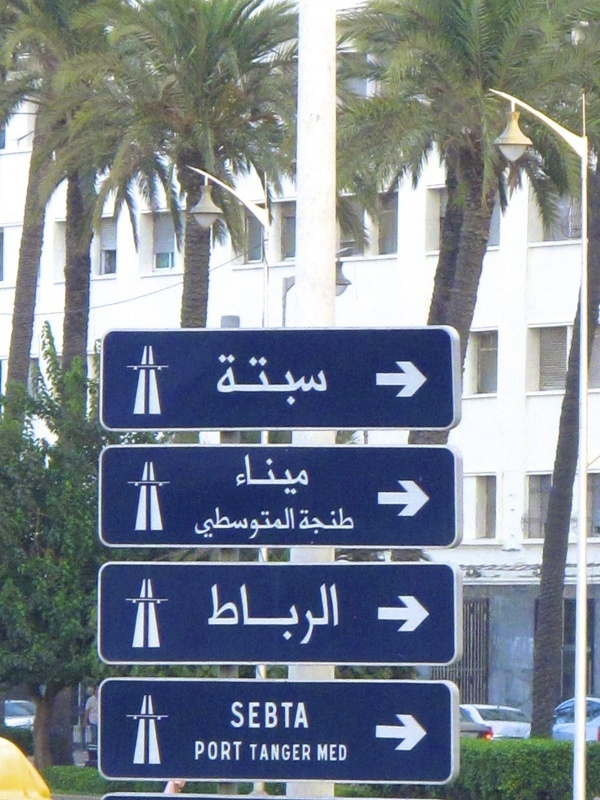text: (209, 580, 224, 646), (225, 580, 240, 646), (241, 580, 256, 646), (257, 580, 272, 646), (273, 580, 288, 646), (289, 580, 304, 646), (305, 580, 320, 646), (321, 580, 336, 646), (225, 354, 240, 408), (241, 354, 256, 408), (257, 354, 272, 408), (273, 354, 288, 408), (289, 354, 304, 408), (305, 354, 320, 408), (241, 454, 256, 496), (257, 454, 272, 496), (273, 454, 288, 496), (289, 454, 304, 496), (209, 506, 224, 540), (225, 506, 240, 540), (241, 506, 256, 540), (257, 506, 272, 540), (273, 506, 288, 540), (241, 700, 256, 730), (257, 700, 272, 730), (273, 700, 288, 730), (289, 700, 304, 730), (305, 507, 320, 536), (321, 507, 336, 536), (337, 507, 352, 536), (321, 354, 329, 408), (217, 354, 224, 408), (197, 506, 208, 540), (209, 741, 224, 762), (225, 741, 240, 762), (257, 743, 272, 762), (273, 743, 288, 762), (289, 743, 304, 762), (321, 743, 336, 762), (289, 506, 297, 540), (204, 580, 208, 646), (305, 454, 311, 496), (196, 741, 208, 762), (232, 700, 240, 730), (337, 743, 349, 762), (337, 580, 340, 646), (305, 700, 311, 730), (305, 743, 314, 762), (237, 454, 240, 496), (300, 507, 304, 536), (250, 743, 256, 762), (353, 507, 355, 536), (241, 741, 243, 762), (318, 743, 320, 762)
